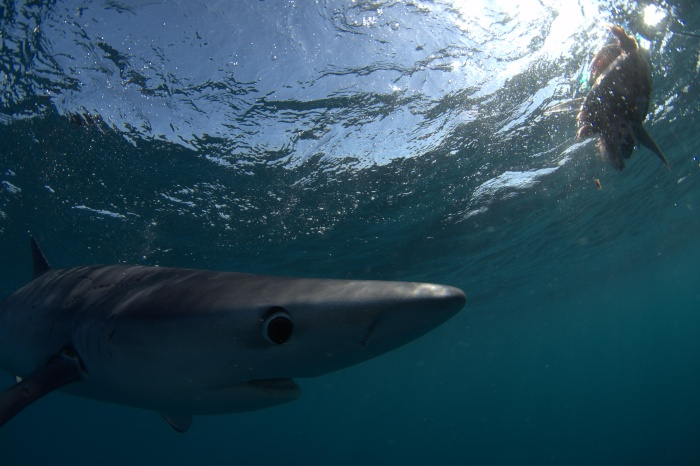Azul: (1, 233, 519, 455)
